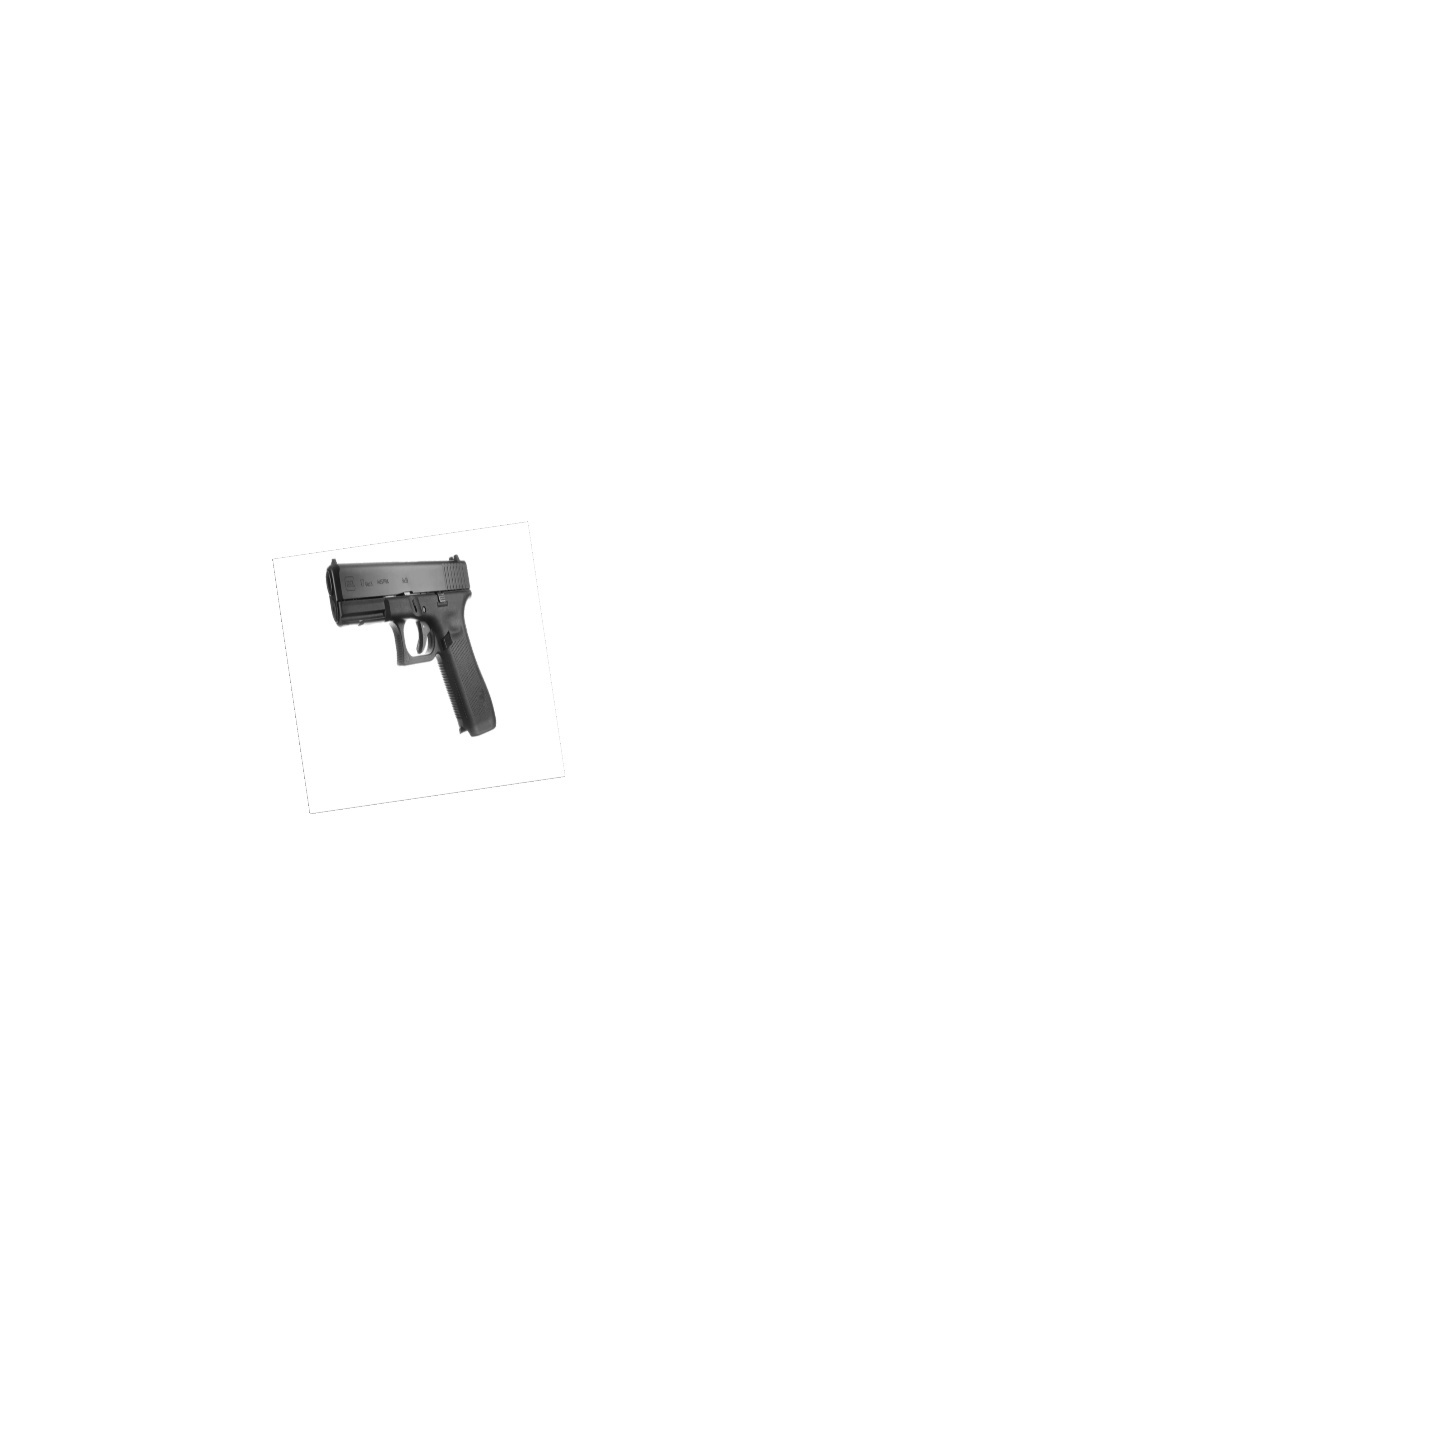gun: (319, 546, 514, 753)
